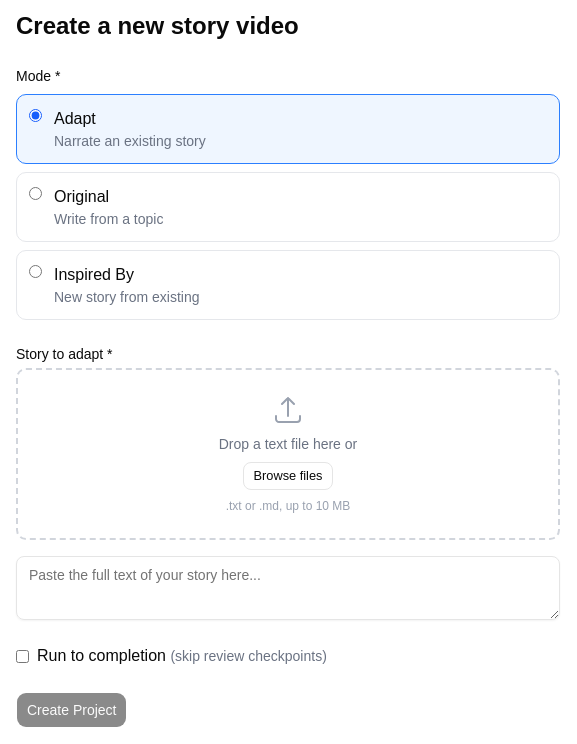
UnifiedProjectPage - Creation mode › does not show file drop zone in inspired_by mode
Expected: the radio button labelled "Adapt Narrate an existing story" is shown, top-left (29, 109), bottom-right (42, 122)
Click the radio button labelled "Inspired By New story from existing" at (36, 272), box top-left (29, 265), bottom-right (42, 278)
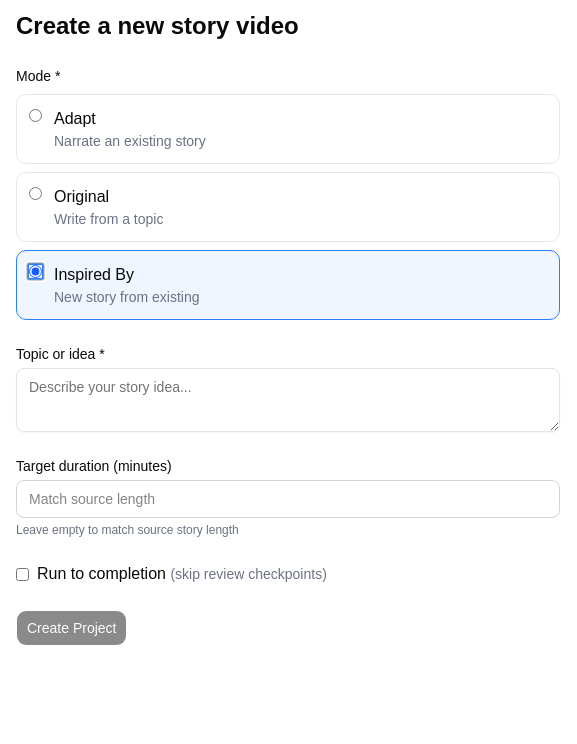
Now the text "Drop a text file here" is gone
